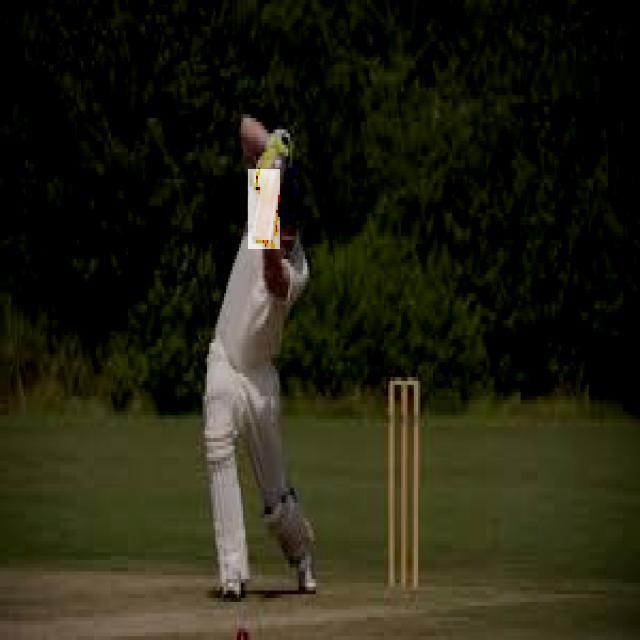bat: (248, 172, 280, 250)
toe: (256, 238, 274, 246)
